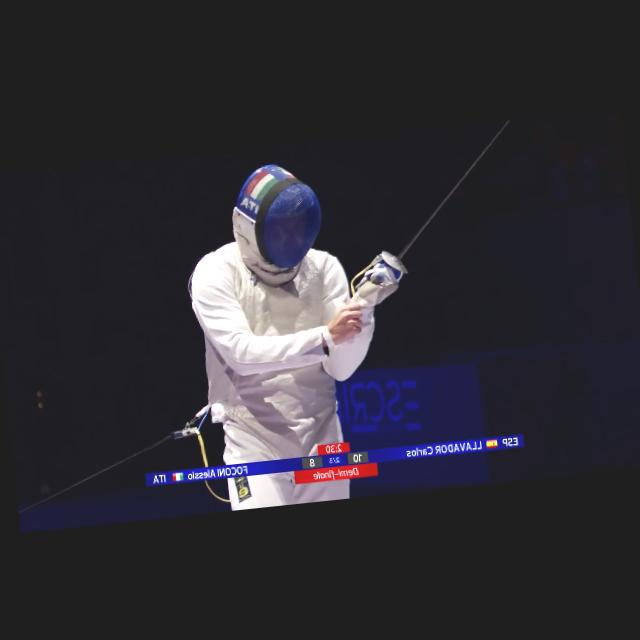blade: (356, 121, 531, 270)
